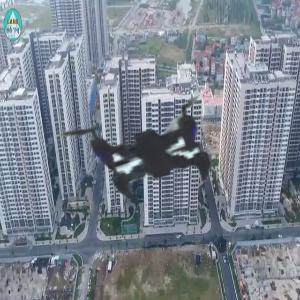drone: (8, 3, 294, 289)
